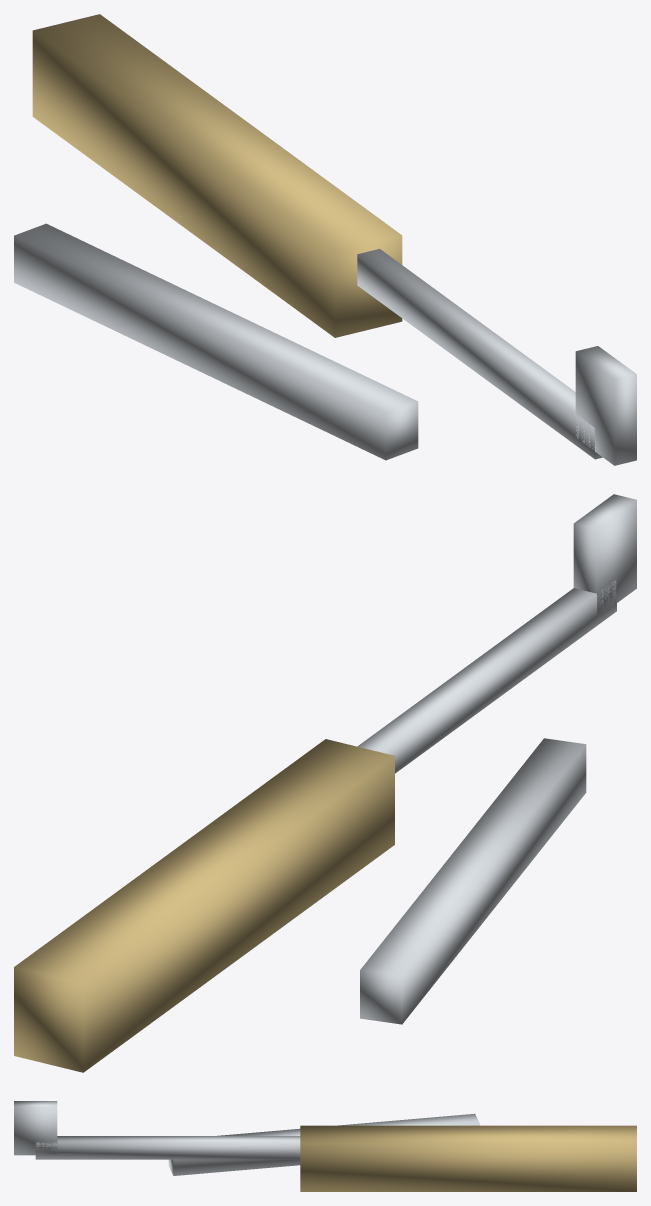
The model's file is tool_lockpick.glb.
3 renders of one model, top to bottom at view 1: azimuth 30°, elevation 25°; view 2: azimuth 150°, elevation 25°; view 3: azimuth 270°, elevation 25°, orthographic. The views are drawn at different scales.
Visible parts, largest first — view 1: Pick_Handle, Tension_Wrench, Pick_Blade, Pick_Hook; view 2: Pick_Handle, Tension_Wrench, Pick_Blade, Pick_Hook; view 3: Pick_Handle, Pick_Blade, Tension_Wrench, Pick_Hook.
Boxes of the visible parts, bbox=[...] form: Pick_Handle: bbox=[32, 14, 402, 337]; Tension_Wrench: bbox=[14, 223, 418, 460]; Pick_Blade: bbox=[357, 249, 602, 459]; Pick_Hook: bbox=[575, 346, 636, 465]; Pick_Handle: bbox=[14, 739, 394, 1072]; Tension_Wrench: bbox=[360, 738, 586, 1024]; Pick_Blade: bbox=[357, 580, 616, 773]; Pick_Hook: bbox=[573, 494, 636, 617]; Pick_Handle: bbox=[300, 1125, 636, 1191]; Pick_Blade: bbox=[35, 1136, 300, 1159]; Tension_Wrench: bbox=[168, 1113, 479, 1175]; Pick_Hook: bbox=[14, 1101, 57, 1155].
Size of the model in its own units: 0.0618 by 0.041 by 0.259.
